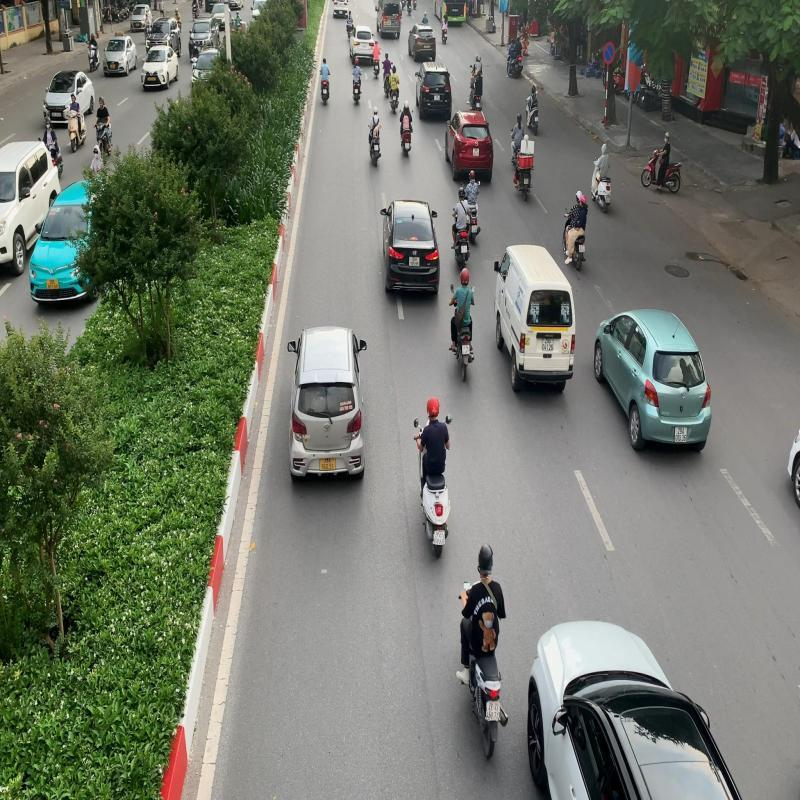helmet: (478, 543, 494, 578), (428, 397, 439, 418)
licenseplate: (486, 700, 502, 722), (432, 530, 444, 545)
motorcyclist: (456, 539, 510, 762), (412, 395, 454, 559)
